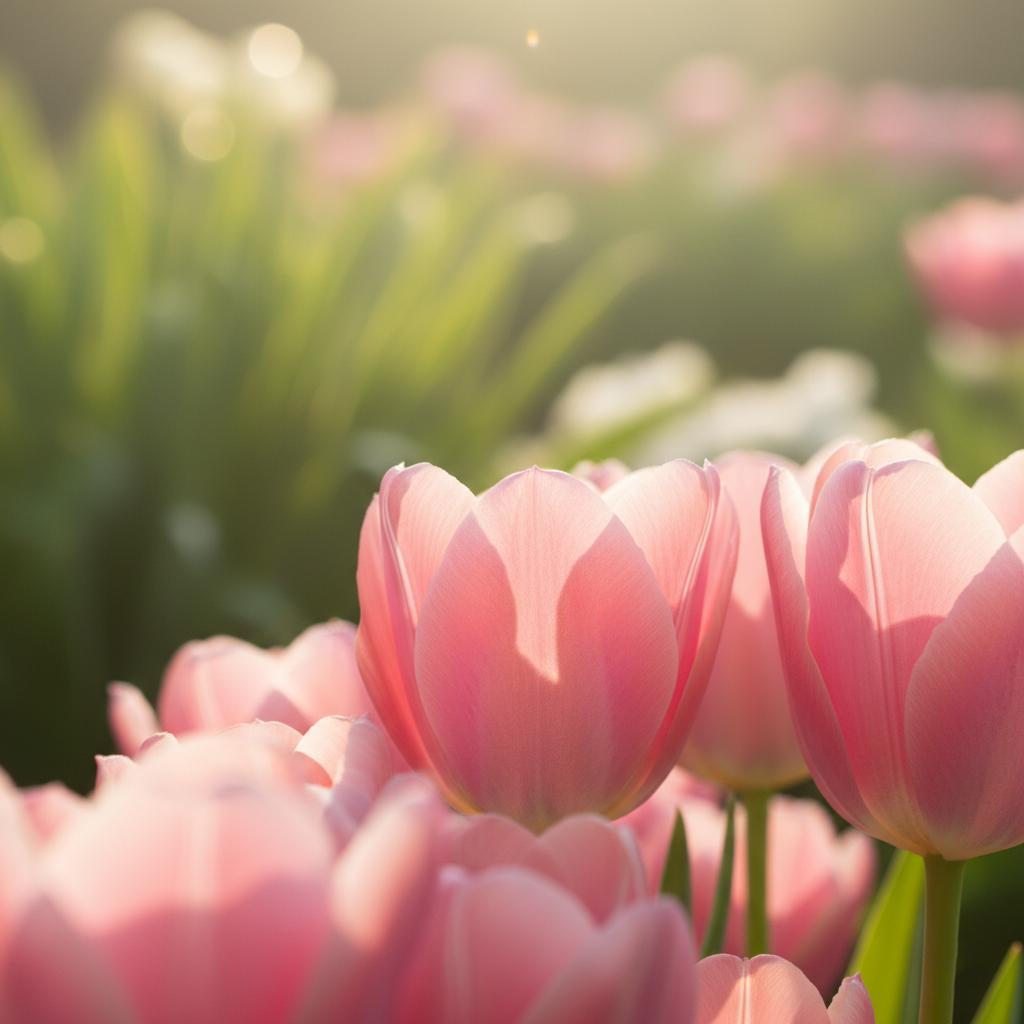tulip: (1, 432, 1022, 1020)
